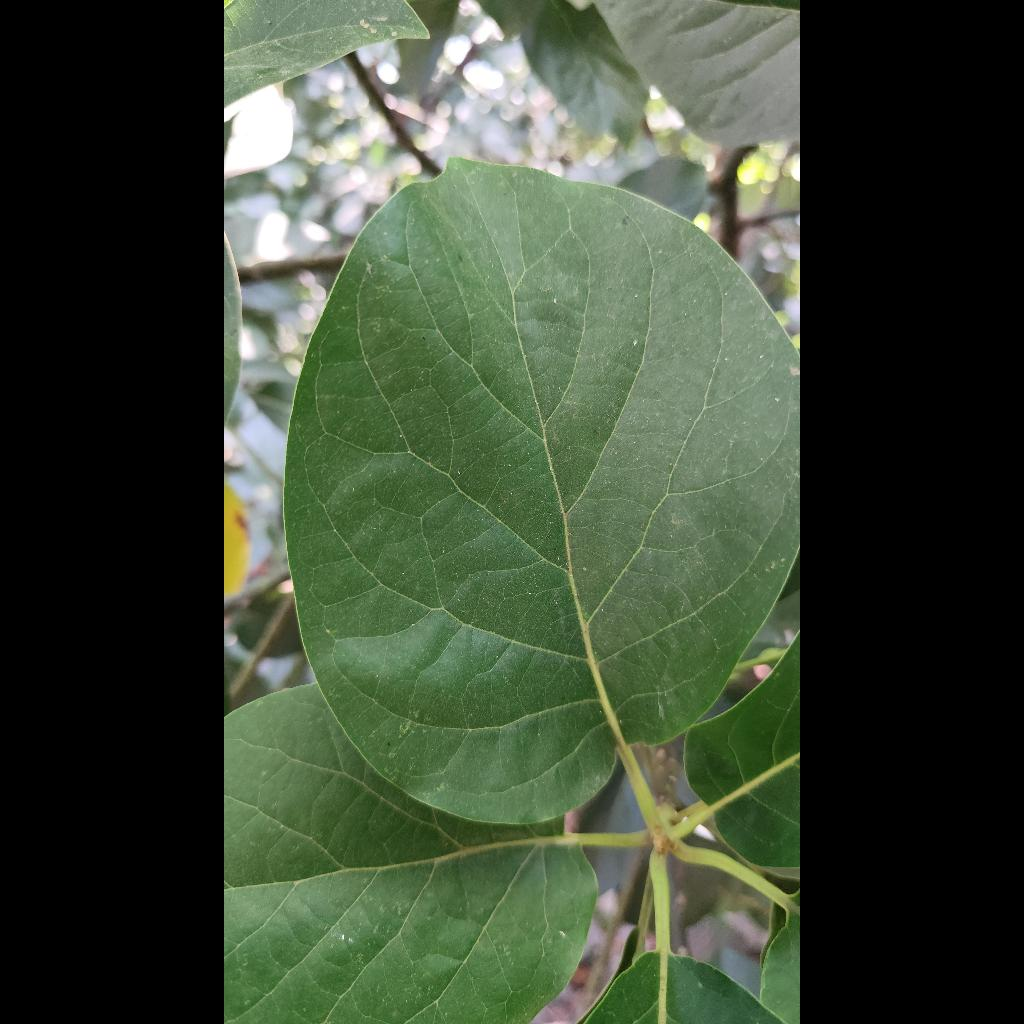Healthy: (285, 160, 800, 823)
